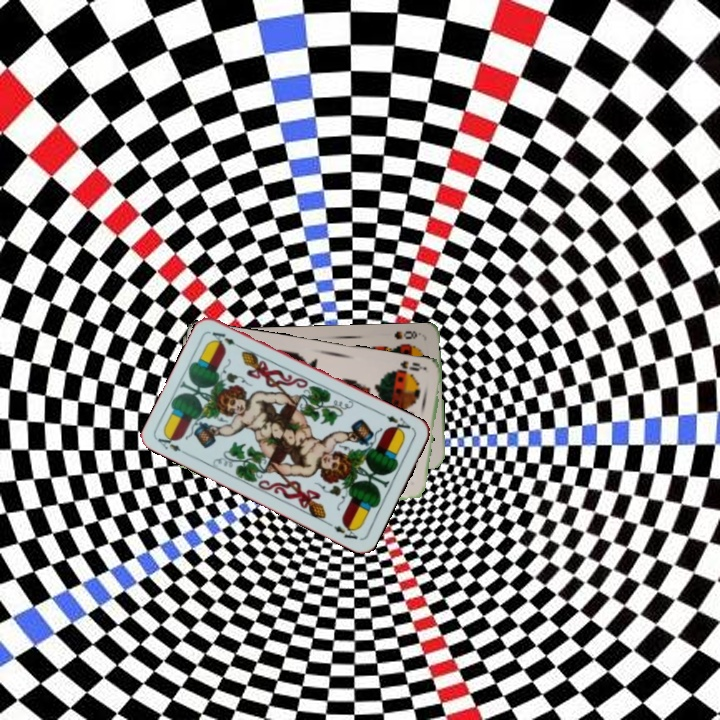EA: (154, 429, 192, 459), (378, 409, 416, 437)
S8: (390, 327, 423, 342)
SO: (387, 357, 428, 378)
